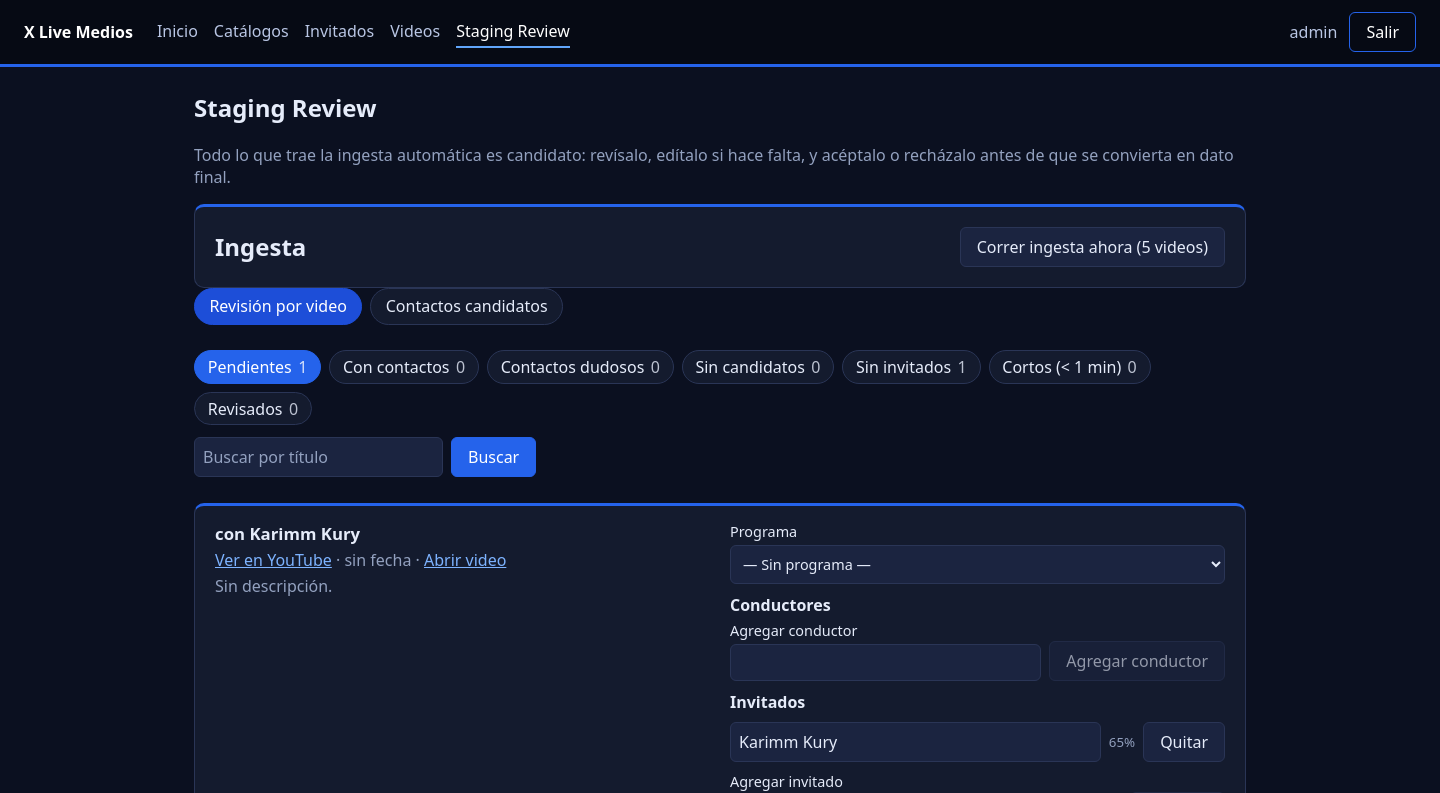
Revisión por video › los filtros muestran contadores y cambian la lista
This screenshot has width=1440, height=793.
Expected: the button "Pendientes 1" is shown, [194, 350, 321, 384]
Expected: the button "Con contactos 0" is shown, [329, 350, 479, 384]
Step 1. Click the button "Sin invitados 1" → coordinates (911, 367), box [842, 350, 980, 384]
(page scrolled)
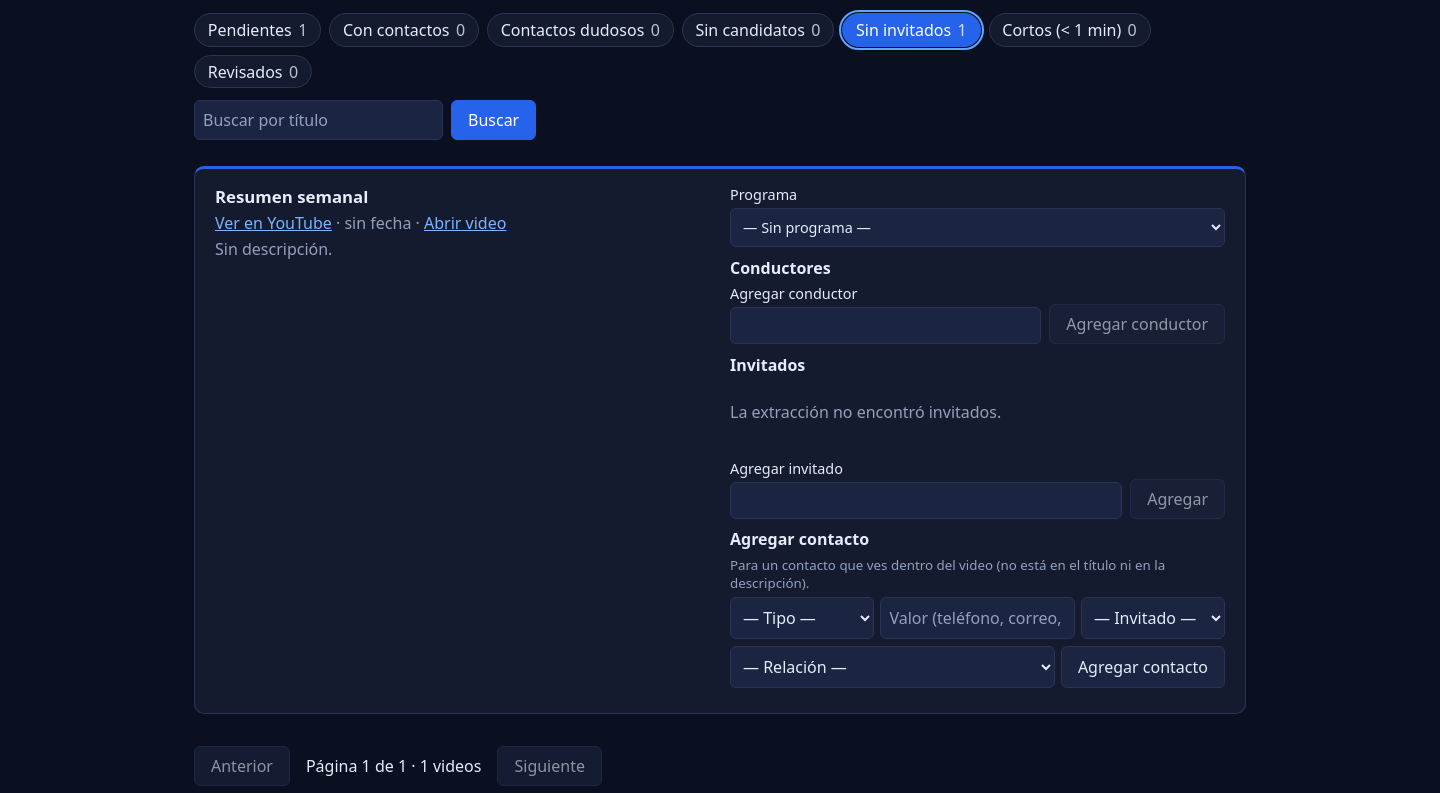
Expected: the element "Resumen semanal" is shown, [194, 166, 1246, 714]
Expected: the heading "con Karimm Kury" is gone
